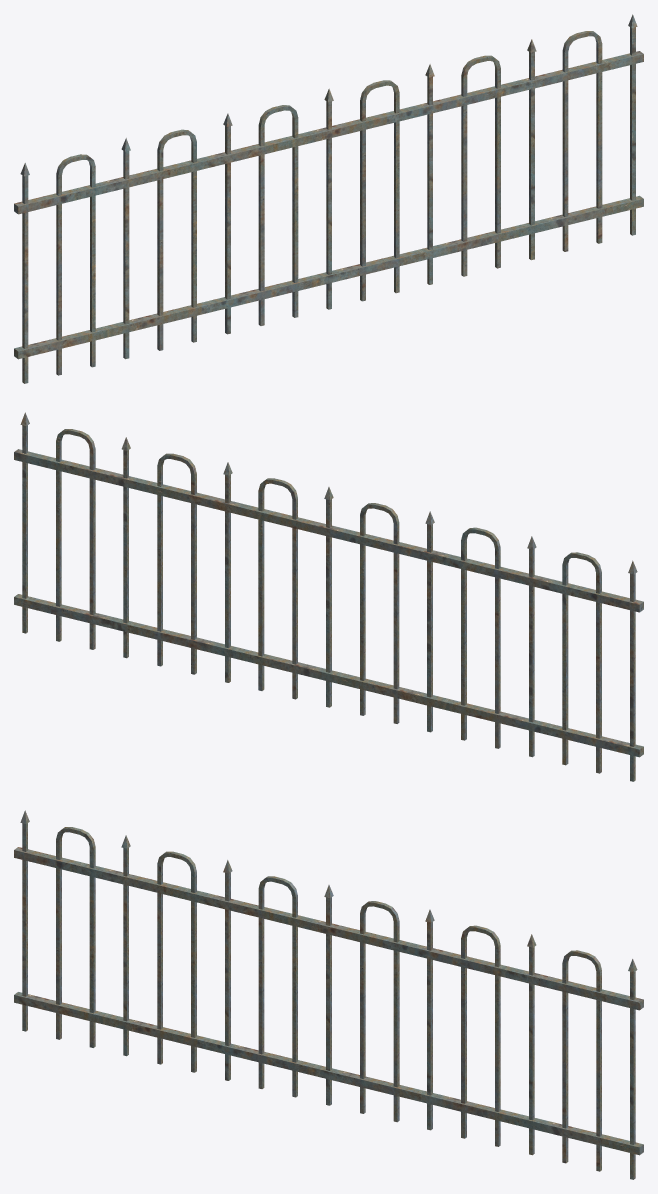
The model's file is fence09.FBX.
3 views of the same model, one above another, from view 1: azimuth 30°, elevation 25°; view 2: azimuth 150°, elevation 25°; view 3: azimuth 330°, elevation 25° (orthographic).
Visible parts, largest first — view 1: metal_fence_large_loop_spear; view 2: metal_fence_large_loop_spear; view 3: metal_fence_large_loop_spear.
Part boxes in pixels (x1,y1,x2,y2): metal_fence_large_loop_spear: (14,14,643,383); metal_fence_large_loop_spear: (14,412,643,781); metal_fence_large_loop_spear: (14,810,643,1179).
Size of the model in its own units: 530 by 178 by 6.31.
